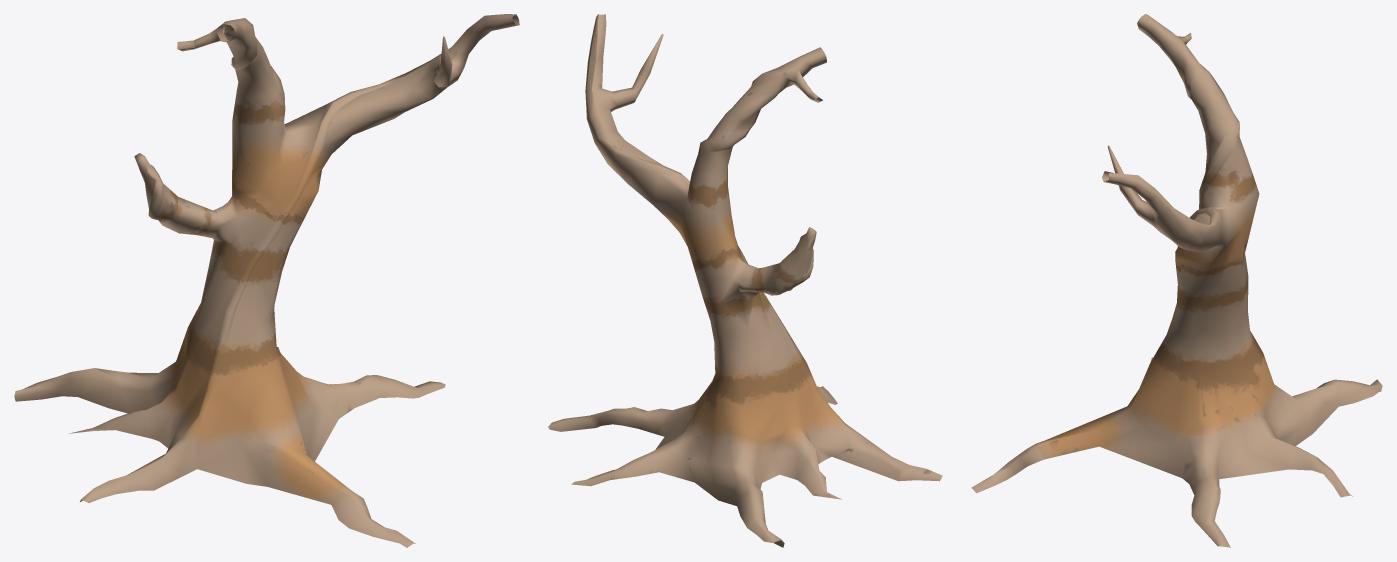
The model's file is Bold_Tree2.fbx.
3 renders of one model, left to right at view 1: azimuth 30°, elevation 25°; view 2: azimuth 150°, elevation 25°; view 3: azimuth 270°, elevation 25°, orthographic. The views are drawn at different scales.
Parts seen in each view (by area): view 1: tree_low; view 2: tree_low; view 3: tree_low.
Part boxes in pixels (x1,y1,x2,y2): tree_low: [14, 14, 519, 547]; tree_low: [548, 14, 942, 547]; tree_low: [971, 14, 1382, 547].
Bounding box in the file's own units: 758 × 833 × 714.
Materials: 1 (1 with a texture image).
